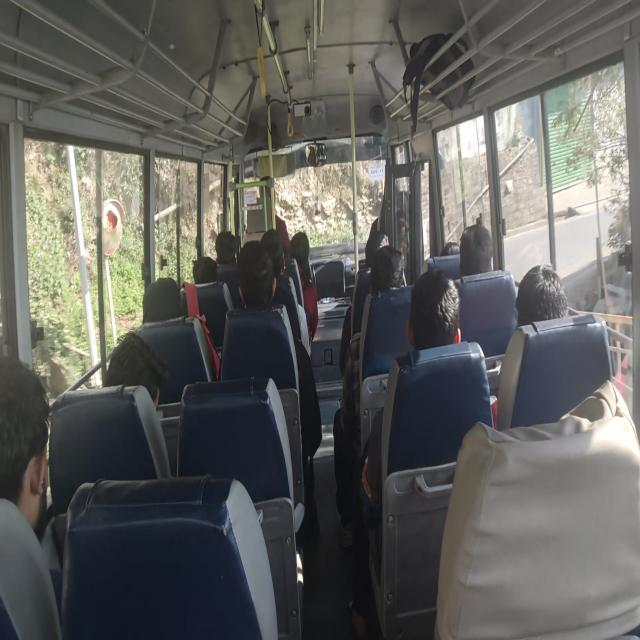person: (434, 378, 639, 638), (348, 268, 462, 636), (221, 239, 322, 534), (333, 242, 406, 547), (0, 356, 62, 638), (492, 263, 569, 426), (260, 228, 312, 359), (104, 331, 169, 411), (406, 268, 461, 351), (515, 263, 568, 328), (288, 230, 319, 340), (458, 224, 494, 276), (142, 276, 181, 323), (101, 198, 125, 256), (214, 230, 237, 264), (192, 255, 218, 284)
